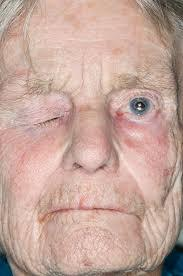strokeEyeSevere: (16, 77, 175, 146)
